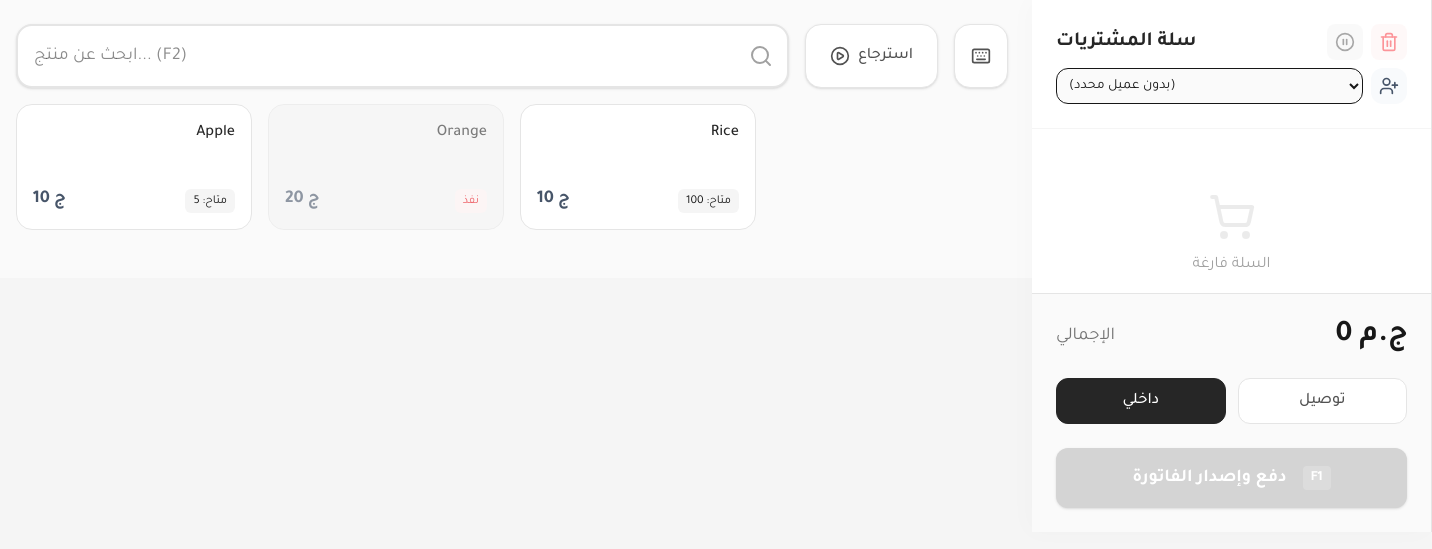
Test: POS cart › adds a product to the cart and shows it in the sidebar with the right total
This screenshot has width=1432, height=549.
Click the button "Apple 10 ج متاح: 5": (134, 167) [16,104,252,230]
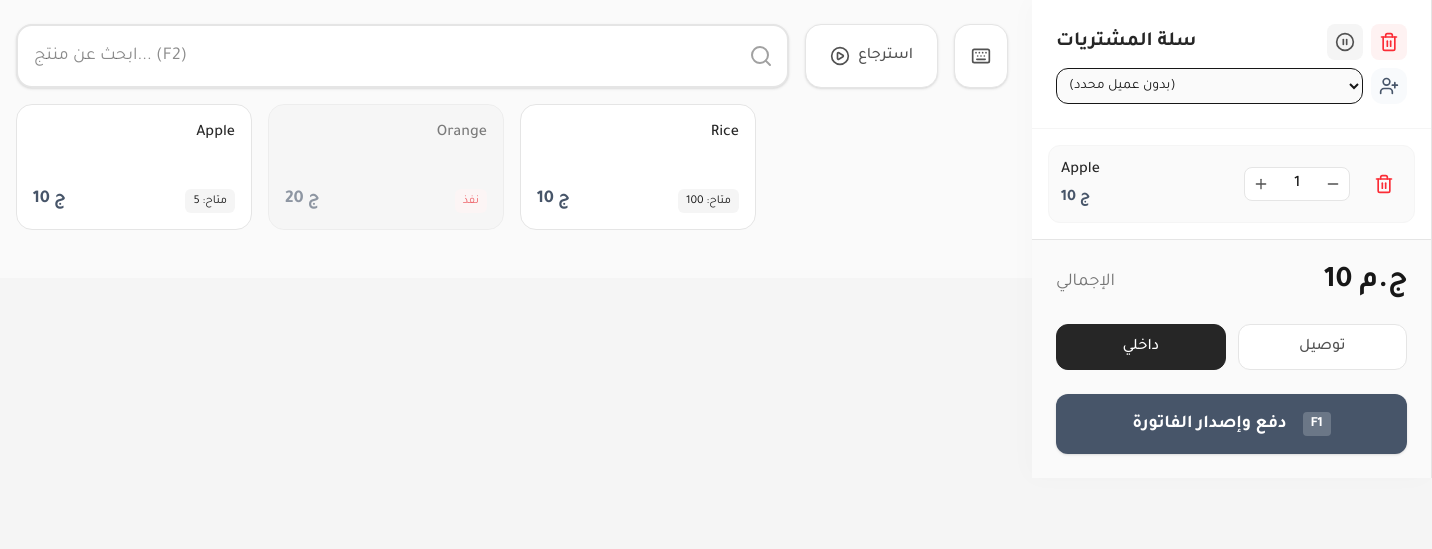
Check: the text "10 ج.م" is shown, box [1324,264,1407,300]
Check: the button "دفع وإصدار الفاتورة F1" is enabled, box [1056,394,1407,454]
